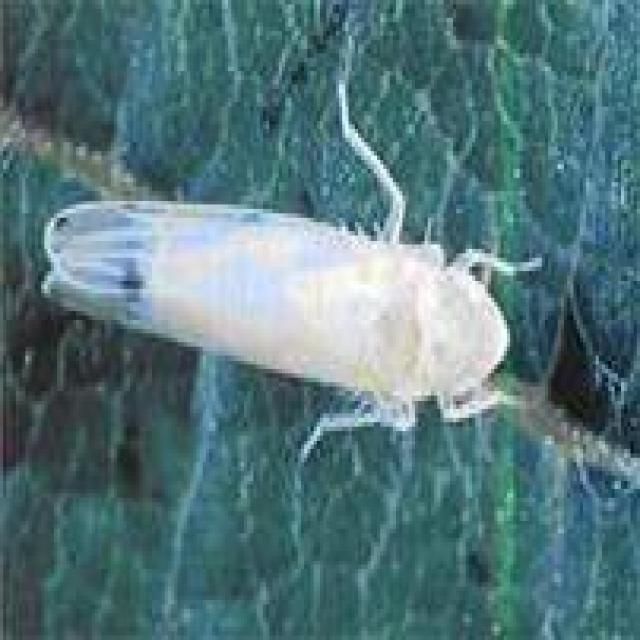Yechan: (48, 71, 550, 472)
